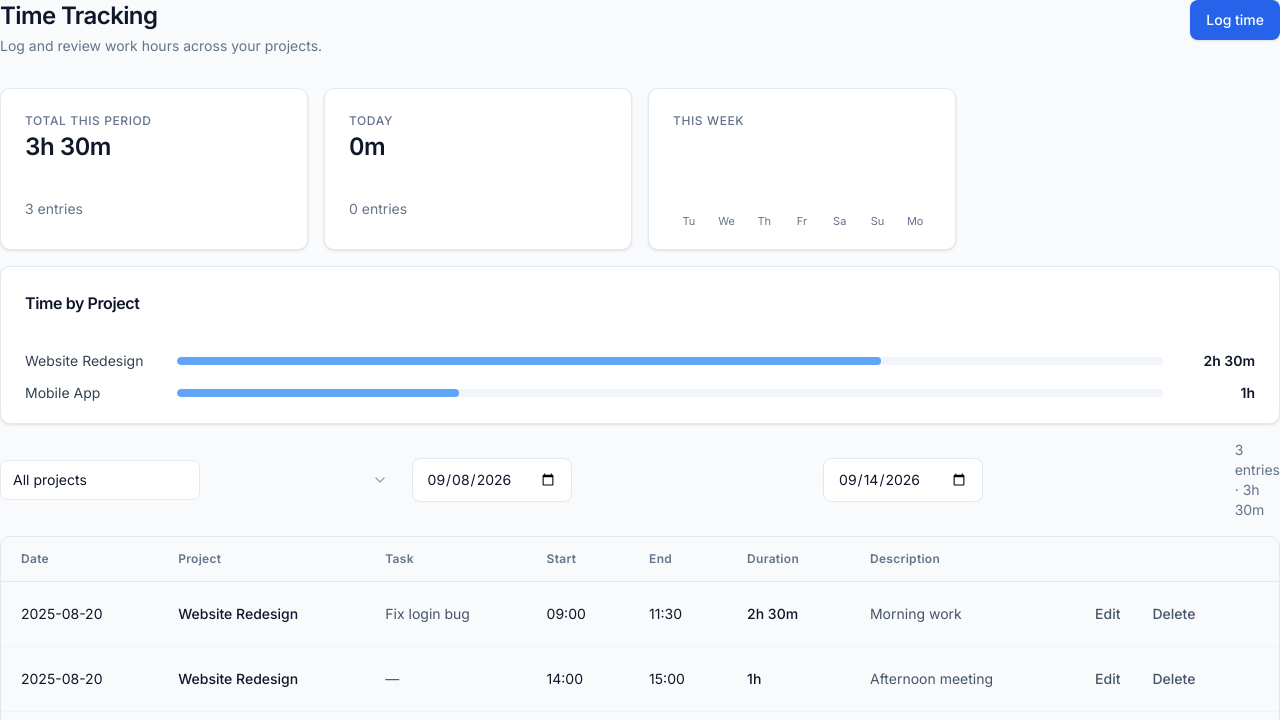
Scenario: TimeTrackingPage › edit entry › opens edit modal with pre-filled data
Expected: the text "Total This Period" is shown, top-left (25, 113), bottom-right (152, 128)
Click the button "Edit" in the row of "Fix login bug" at (1108, 614), box top-left (1081, 598), bottom-right (1134, 630)
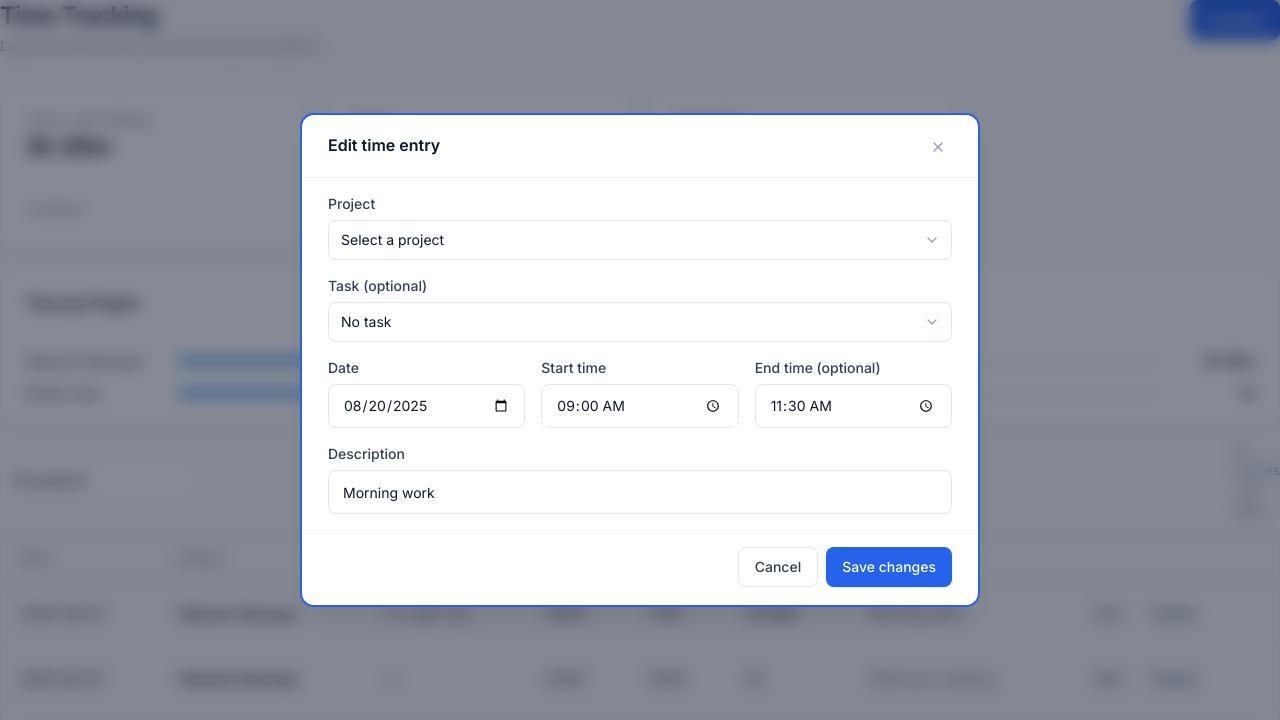
Result: the dialog is shown at top-left (304, 117), bottom-right (976, 603)
Result: the heading "Edit time entry" is shown at top-left (328, 133), bottom-right (440, 157)
